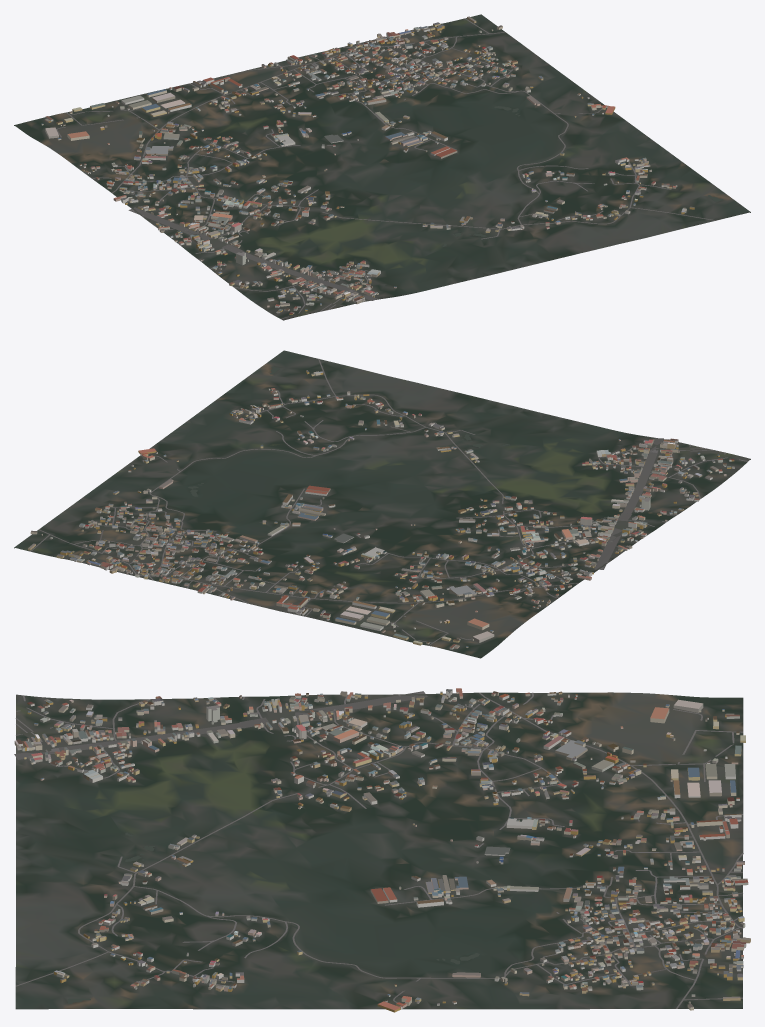
3 renders of one model, top to bottom at view 1: azimuth 30°, elevation 25°; view 2: azimuth 150°, elevation 25°; view 3: azimuth 270°, elevation 25°, orthographic. The views are drawn at different scales.
Parts seen in each view (by area): view 1: ground, buildings, roads; view 2: ground, buildings, roads; view 3: ground, buildings, roads.
Boxes of the visible parts, x1,y1,x2,y2 form: ground: (14, 14, 750, 320); buildings: (41, 16, 694, 314); roads: (56, 18, 715, 319); ground: (14, 350, 750, 658); buildings: (28, 370, 734, 649); roads: (30, 359, 748, 645); ground: (15, 692, 743, 1009); buildings: (14, 688, 750, 1012); roads: (14, 691, 743, 1008).
Size of the model in its own units: 1430 by 34.8 by 1421.
